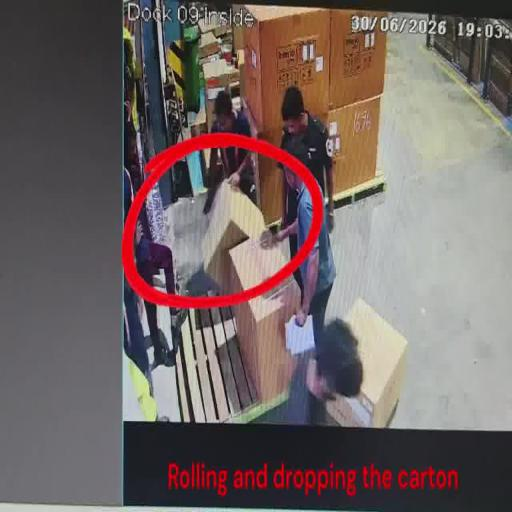carton: (231, 7, 334, 140), (228, 232, 305, 399), (324, 294, 410, 430), (194, 177, 268, 298), (329, 8, 392, 111), (320, 98, 383, 199), (244, 127, 285, 230)
pallet: (173, 289, 279, 422), (330, 178, 388, 211)
person: (260, 154, 336, 354), (123, 154, 179, 370), (256, 320, 364, 425), (277, 84, 334, 256), (202, 88, 258, 220)
